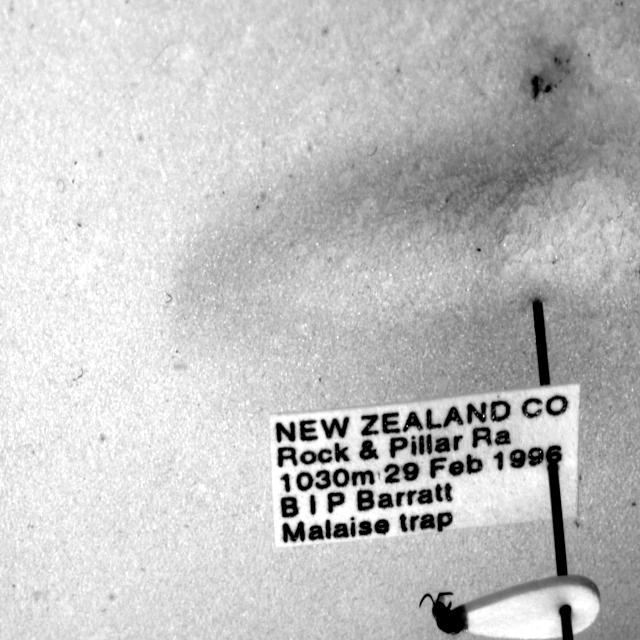typed_label: (270, 384, 580, 548)
